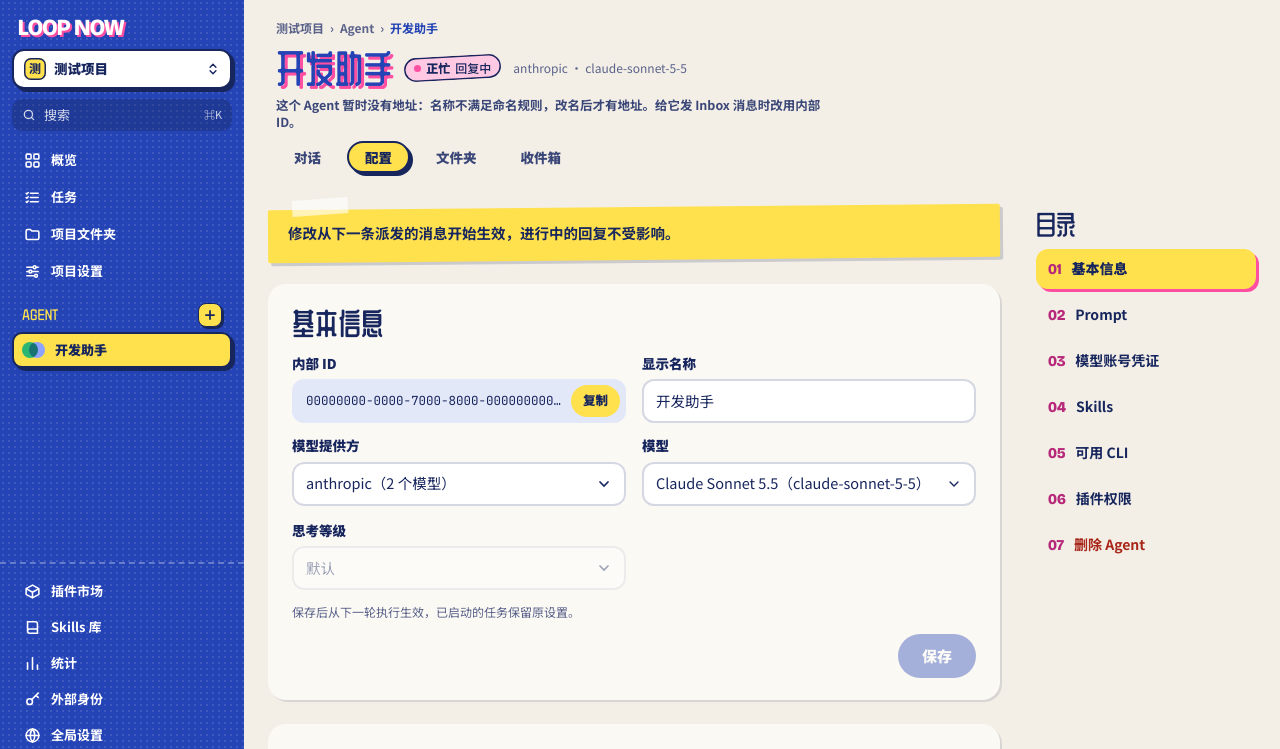
配置生效说明 › 常驻说明；回复进行中保存时提示不影响当前回复
The image size is (1280, 749).
Check: the element "基本信息" is shown, box [268,284,1000,700]
Check: the text "修改从下一条派发的消息开始生效，进行中的回复不受影响。" is shown, box [288,224,680,242]
Replace the text in the field labelled "显示名称" with "新的" at [809, 401], box [642,379,976,423]
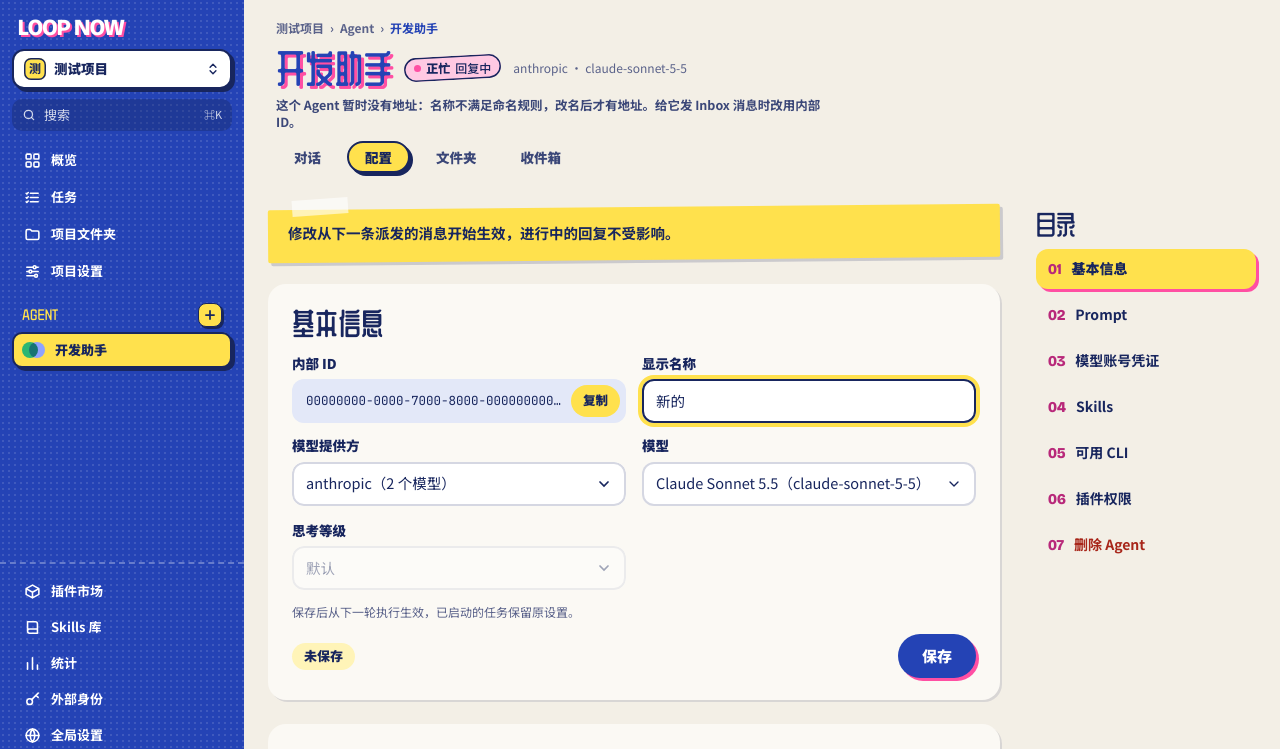
Click the button "保存" at [937, 656], box [898,634,976,678]
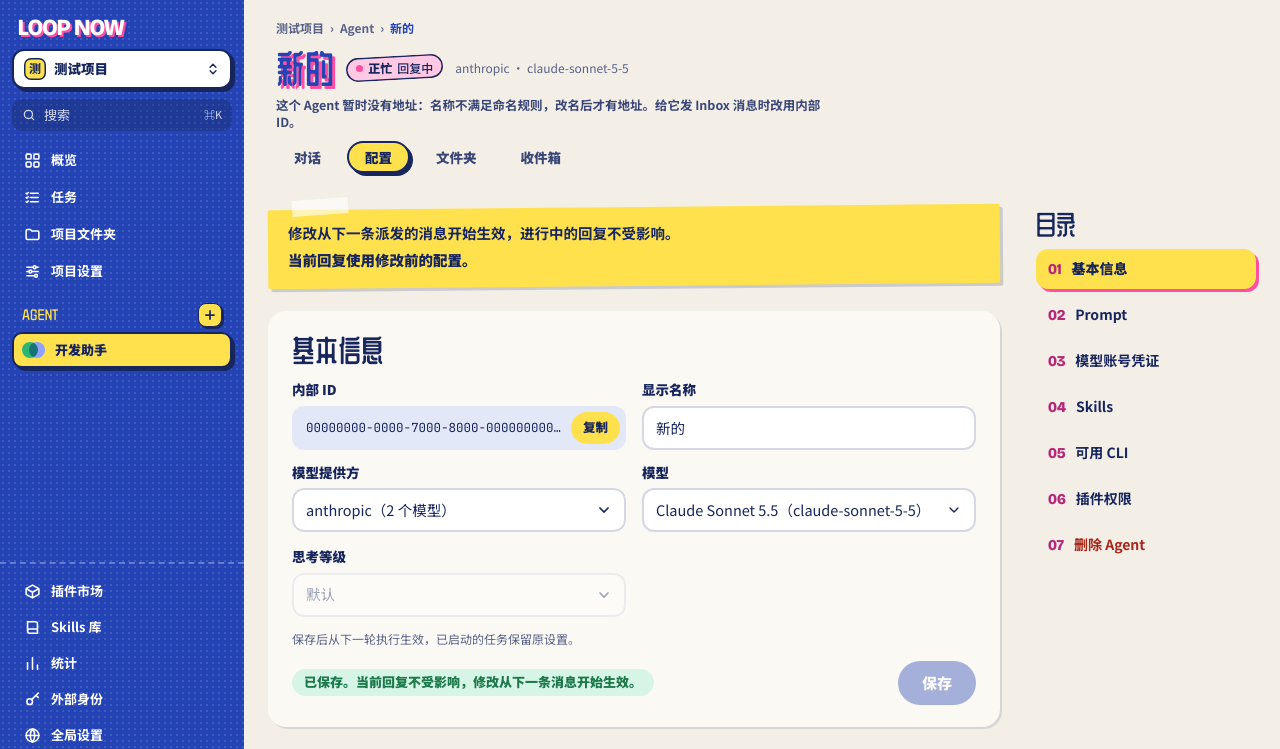
Check: the text "已保存。当前回复不受影响，修改从下一条消息开始生效。" is shown, box [292,670,654,696]
